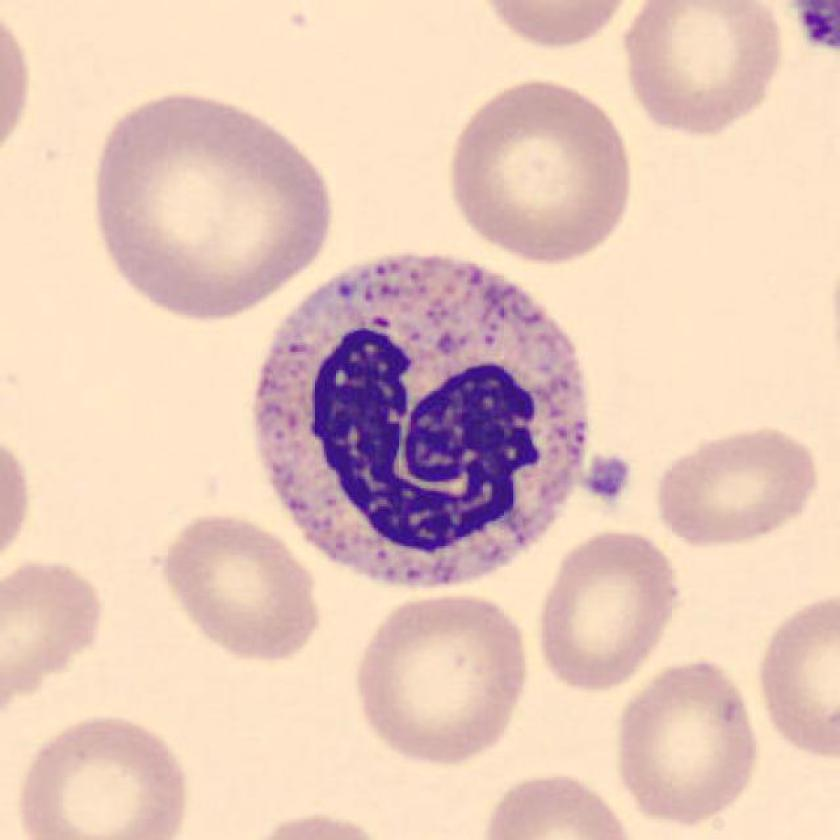neutrophil: (255, 255, 587, 587)
